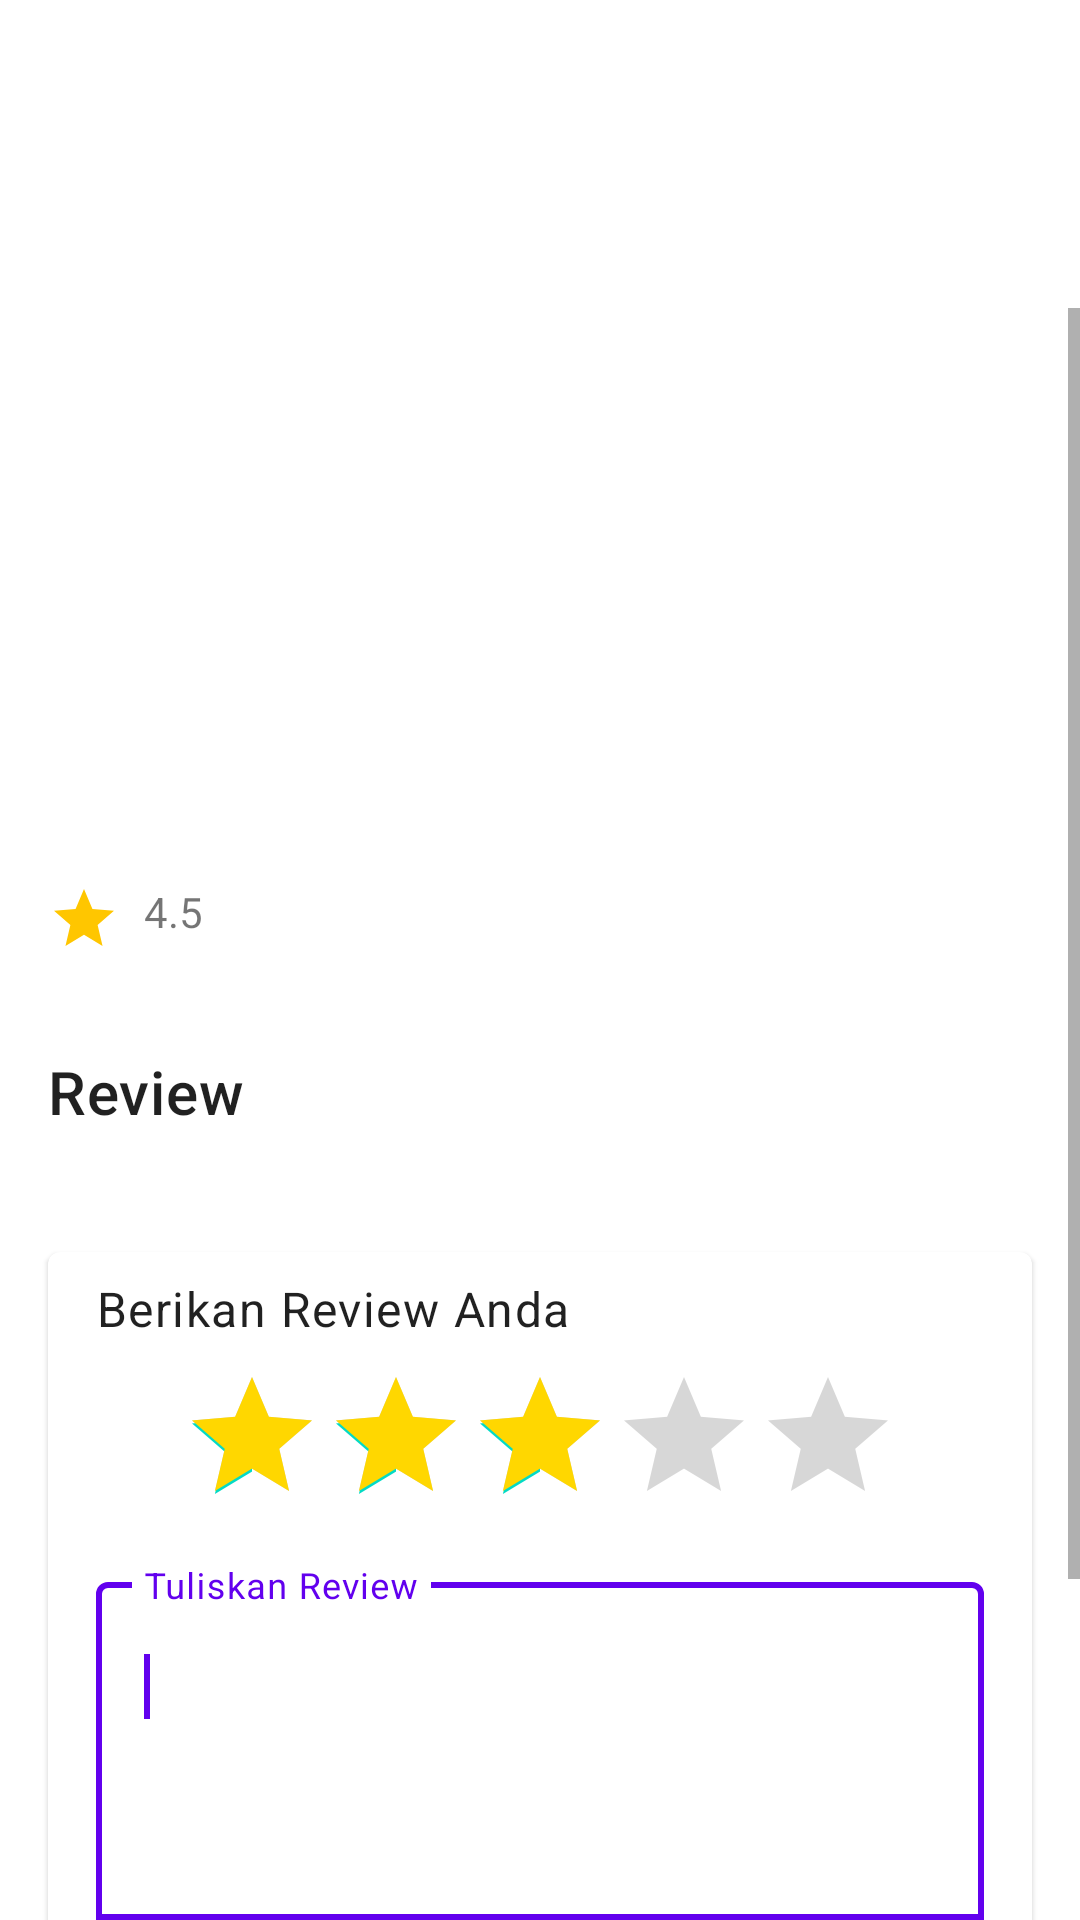

Named icons in this screenshot (1080 × 1920) and their bounding boxes, (x1, y1, x2, y2):
star: (54, 889, 114, 946)
